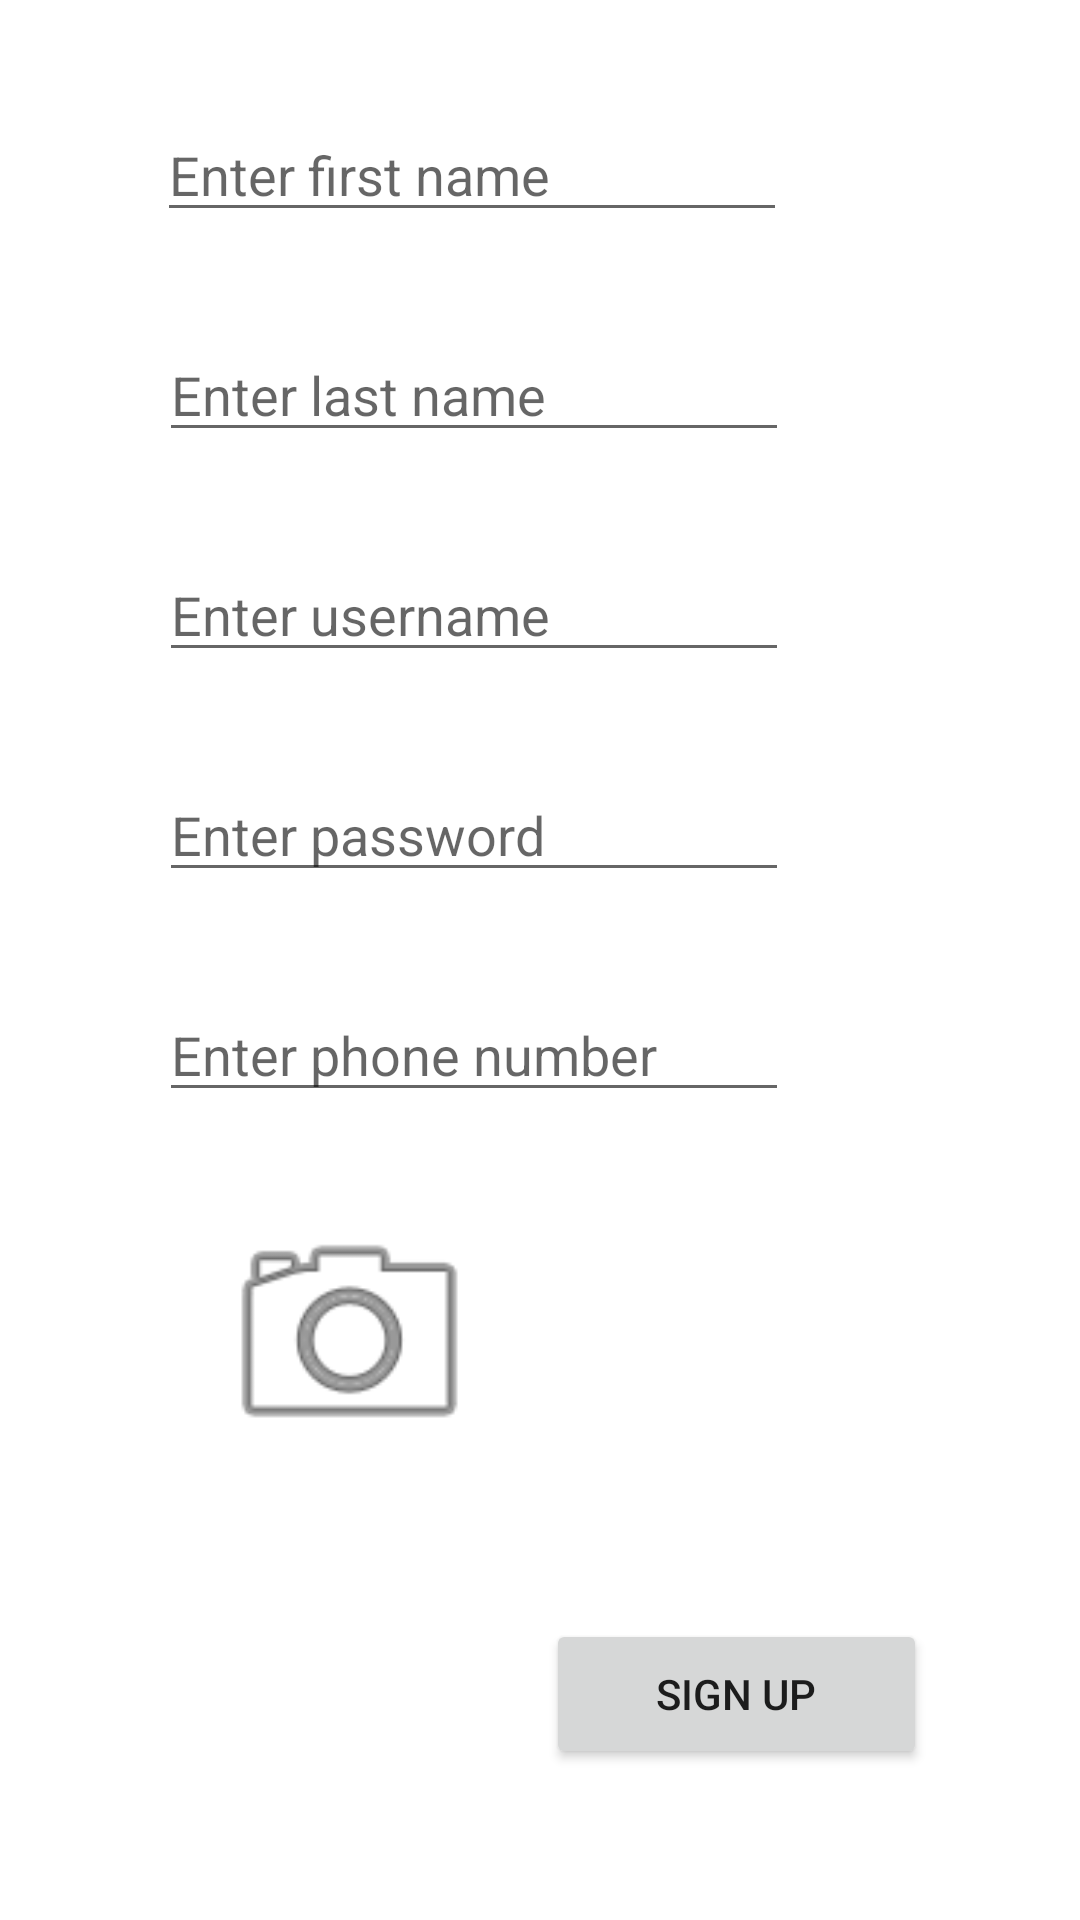

Screen size 1080 x 1920. Icon name, then its box in pixels as bbox=[x1, y1, x2, y2]:
camera: bbox=[242, 1245, 457, 1417]
